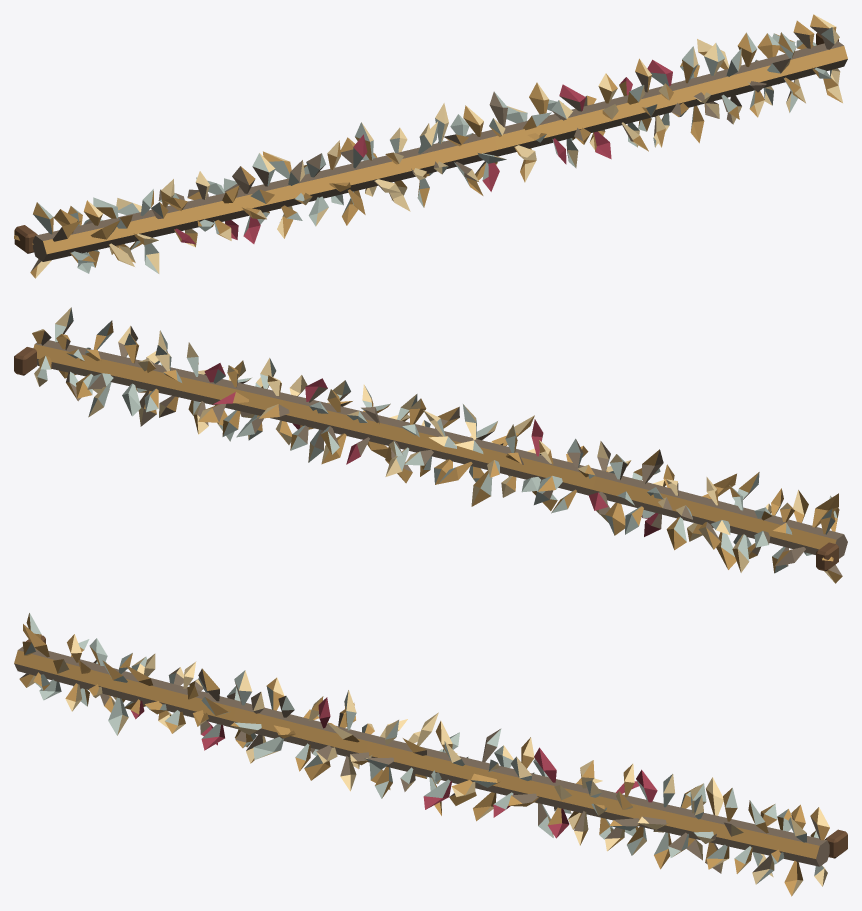
The model's file is foil_tinsel_straight.glb.
3 views of the same model, one above another, from view 1: azimuth 30°, elevation 25°; view 2: azimuth 150°, elevation 25°; view 3: azimuth 330°, elevation 25° (orthographic).
Parts seen in each view (by area): view 1: foil_tinsel_straight; view 2: foil_tinsel_straight; view 3: foil_tinsel_straight.
Boxes of the visible parts, x1,y1,x2,y2 form: foil_tinsel_straight: [14, 14, 847, 278]; foil_tinsel_straight: [14, 307, 847, 583]; foil_tinsel_straight: [14, 612, 847, 896].
Bounding box in the file's own units: 1.06 × 0.1169 × 0.1232.
